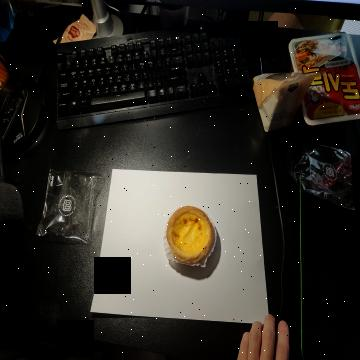EggTart: (166, 204, 214, 264)
